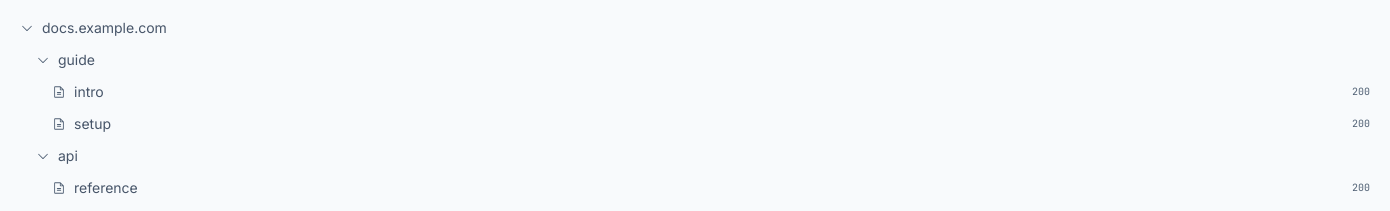
Test: ResultTree › re-expanding a collapsed folder restores its children
The width and height of the screenshot is (1390, 211).
Step 1. Click the list item "guide" → (76, 60), box [12,44,1378,76]
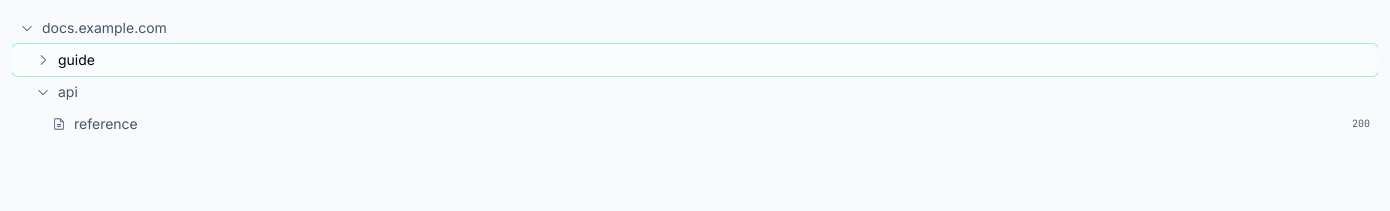
Now the list item "intro" is gone
Step 2. Click the list item "guide" → (76, 60), box [12,44,1378,76]
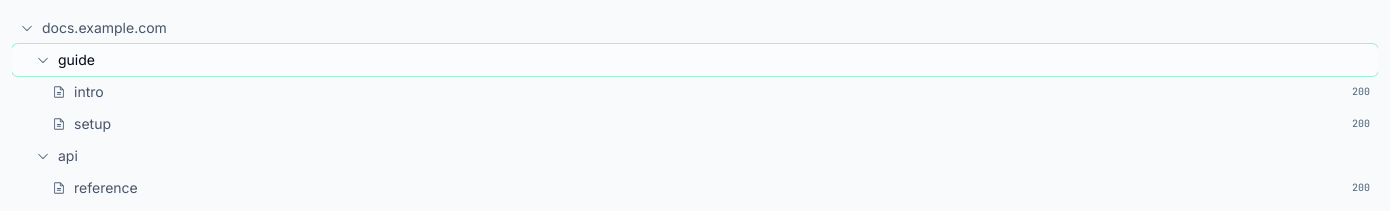
Now the text "intro" is shown, box [74,82,104,102]
Now the text "setup" is shown, box [74,114,111,134]
